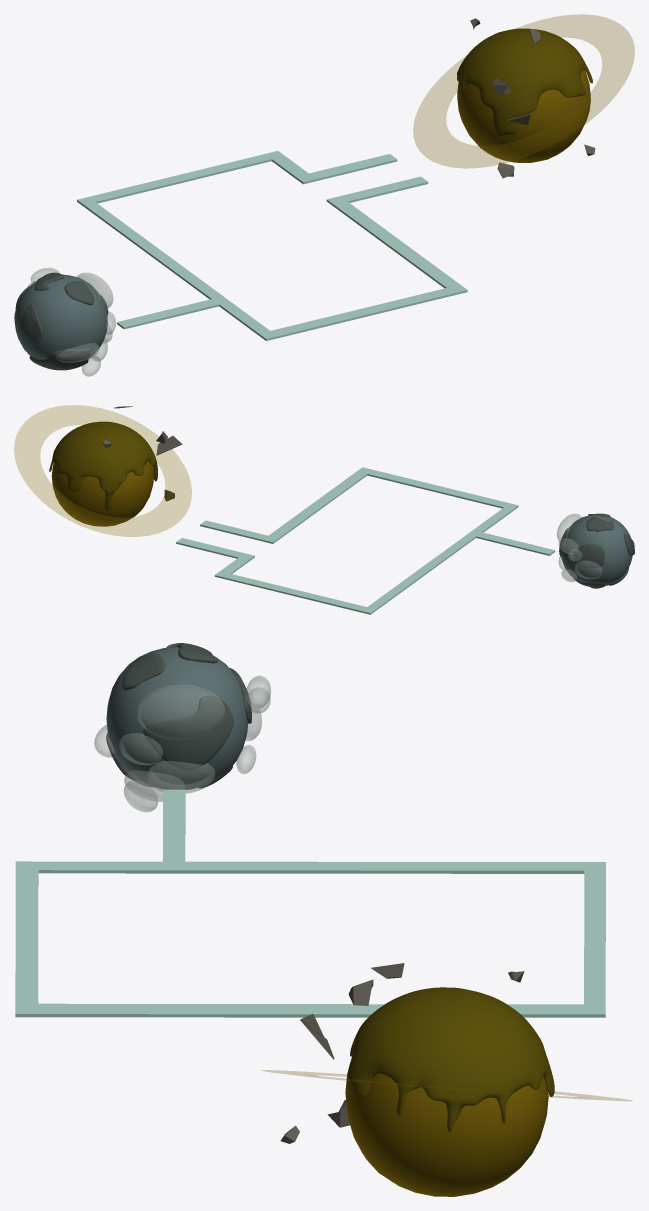
File: Path03_Complete.fbx
The picture shows the model from 3 angles, top to bottom: view 1: azimuth 30°, elevation 25°; view 2: azimuth 150°, elevation 25°; view 3: azimuth 270°, elevation 25°; orthographic projection. The views are drawn at different scales.
Visible parts, largest first — view 1: Path_Level_03, Saturn_Ring, Saturn_Radioactive, Saturn_Ball, Earth_water, Earth_Pollutats, pSphere5, pSphere12; view 2: Saturn_Ring, Path_Level_03, Saturn_Radioactive, Saturn_Ball, Earth_water, Earth_Pollutats, pSphere8, pSphere12; view 3: Path_Level_03, Saturn_Radioactive, Saturn_Ball, Earth_water, Earth_Pollutats, pSphere12, pSphere9, pSphere10, Saturn_Ring, pSphere11, pSphere14.
Part boxes in pixels (box(x1,y1,x2,y2)): Path_Level_03: box(77, 151, 467, 340); Saturn_Ring: box(413, 14, 634, 168); Saturn_Radioactive: box(457, 28, 592, 136); Saturn_Ball: box(457, 69, 590, 162); Earth_water: box(14, 274, 107, 357); Earth_Pollutats: box(15, 272, 108, 370); pSphere5: box(55, 343, 99, 362); pSphere12: box(76, 272, 113, 308); Saturn_Ring: box(14, 405, 191, 536); Path_Level_03: box(176, 467, 555, 614); Saturn_Radioactive: box(49, 421, 157, 510); Saturn_Ball: box(51, 461, 154, 526); Earth_water: box(561, 515, 632, 585); Earth_Pollutats: box(559, 513, 634, 588); pSphere8: box(574, 560, 602, 579); pSphere12: box(556, 513, 581, 541); Path_Level_03: box(15, 789, 605, 1017); Saturn_Radioactive: box(348, 987, 554, 1131); Saturn_Ball: box(345, 1051, 548, 1196); Earth_water: box(106, 647, 248, 789); Earth_Pollutats: box(106, 643, 251, 788); pSphere12: box(136, 684, 224, 739); pSphere9: box(146, 761, 215, 793); pSphere10: box(124, 770, 185, 801); Saturn_Ring: box(261, 1070, 632, 1100); pSphere11: box(118, 733, 162, 765); pSphere14: box(123, 780, 157, 812).
Size of the model in its own units: 103 by 22.39 by 51.63.
